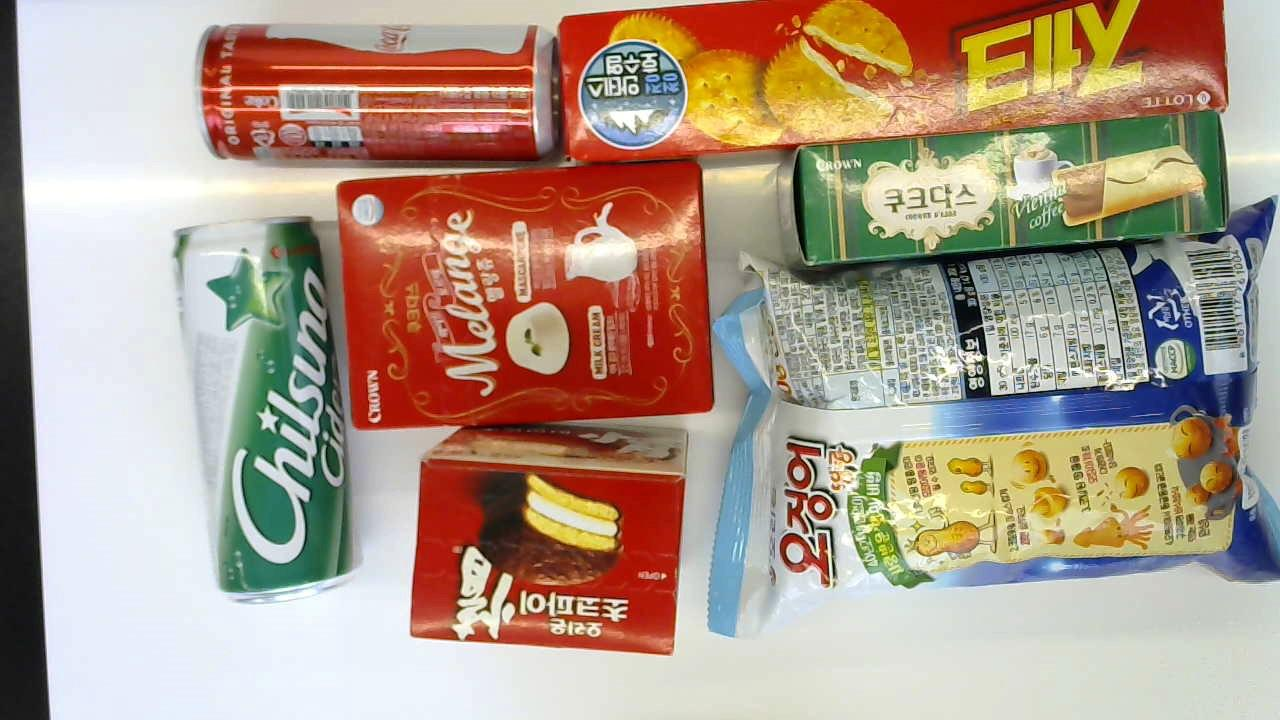chocopie: (407, 421, 693, 657)
cidar: (173, 214, 369, 603)
coke: (192, 20, 563, 159)
couque_white: (338, 163, 711, 428), (768, 108, 1240, 272)
squid_peanut: (712, 244, 1280, 636)
zec: (554, 0, 1230, 163)
